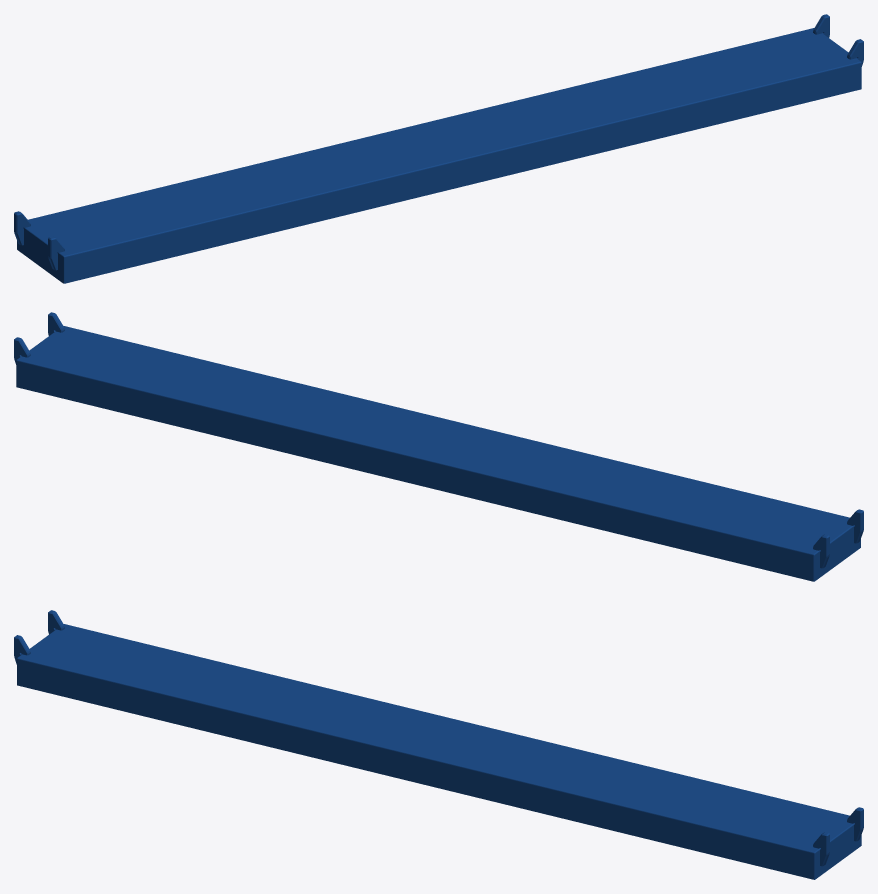
The model's file is LiftMechanism.FBX.
3 views of the same model, one above another, from view 1: azimuth 30°, elevation 25°; view 2: azimuth 150°, elevation 25°; view 3: azimuth 330°, elevation 25° (orthographic).
Parts seen in each view (by area): view 1: Lift; view 2: Lift; view 3: Lift.
Boxes of the visible parts, x1,y1,x2,y2 form: Lift: (14,14,863,283); Lift: (14,312,863,581); Lift: (14,610,863,879).
Bounding box in the file's own units: 1412 × 71.02 × 142.
